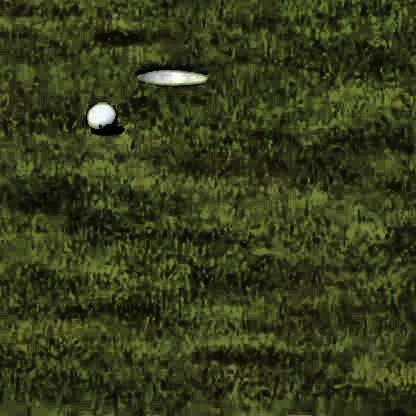golfball: (82, 101, 115, 132)
